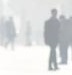person: (44, 8, 59, 70), (58, 15, 69, 65), (3, 16, 15, 49), (24, 20, 32, 45)
